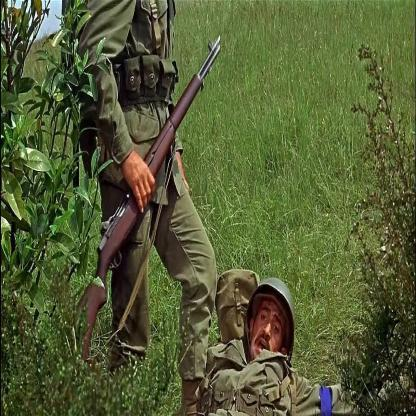gun: (56, 32, 235, 367)
